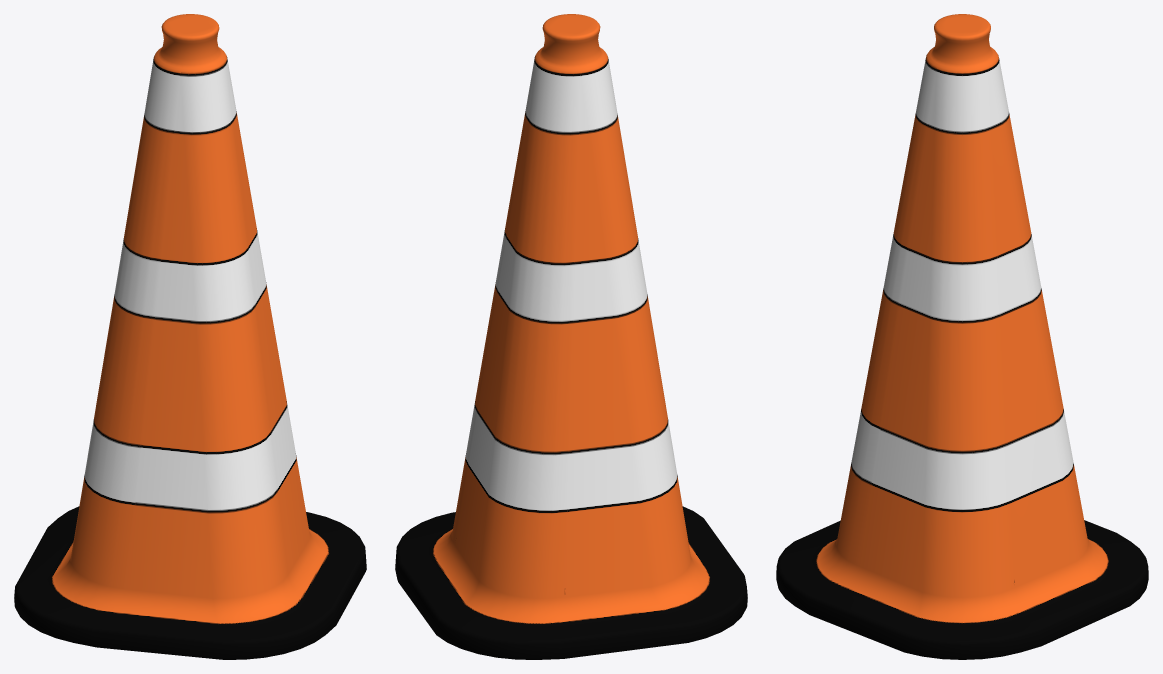
Rendered from TrafficCone.fbx.
The picture shows the model from 3 angles, left to right: view 1: azimuth 30°, elevation 25°; view 2: azimuth 150°, elevation 25°; view 3: azimuth 270°, elevation 25°; orthographic projection.
Parts seen in each view (by area): view 1: Cone; view 2: Cone; view 3: Cone.
Boxes of the visible parts, bbox=[...] form: Cone: bbox=[14, 14, 366, 659]; Cone: bbox=[395, 14, 747, 659]; Cone: bbox=[776, 14, 1148, 659].
Bounding box in the file's own units: 195 × 321 × 195.
